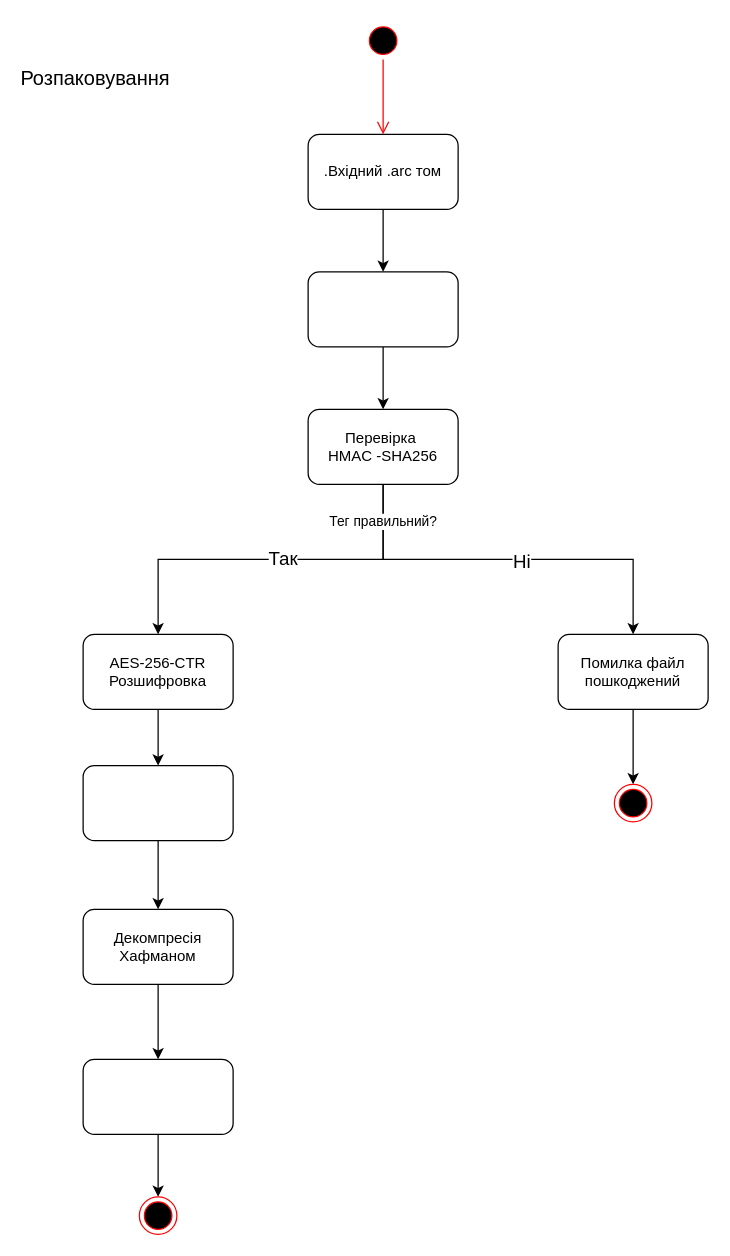
The diagram is 730 pixels wide and 1256 high, and some of its shapes have lost their labels. Here are the shapes that lost their labels. From the top down, the centre of each, then its label:
At pixel 382 309: "Перевірка заговку".
At pixel 157 802: "Валідація Імен".
At pixel 157 1096: "Запис файлів на диск".
